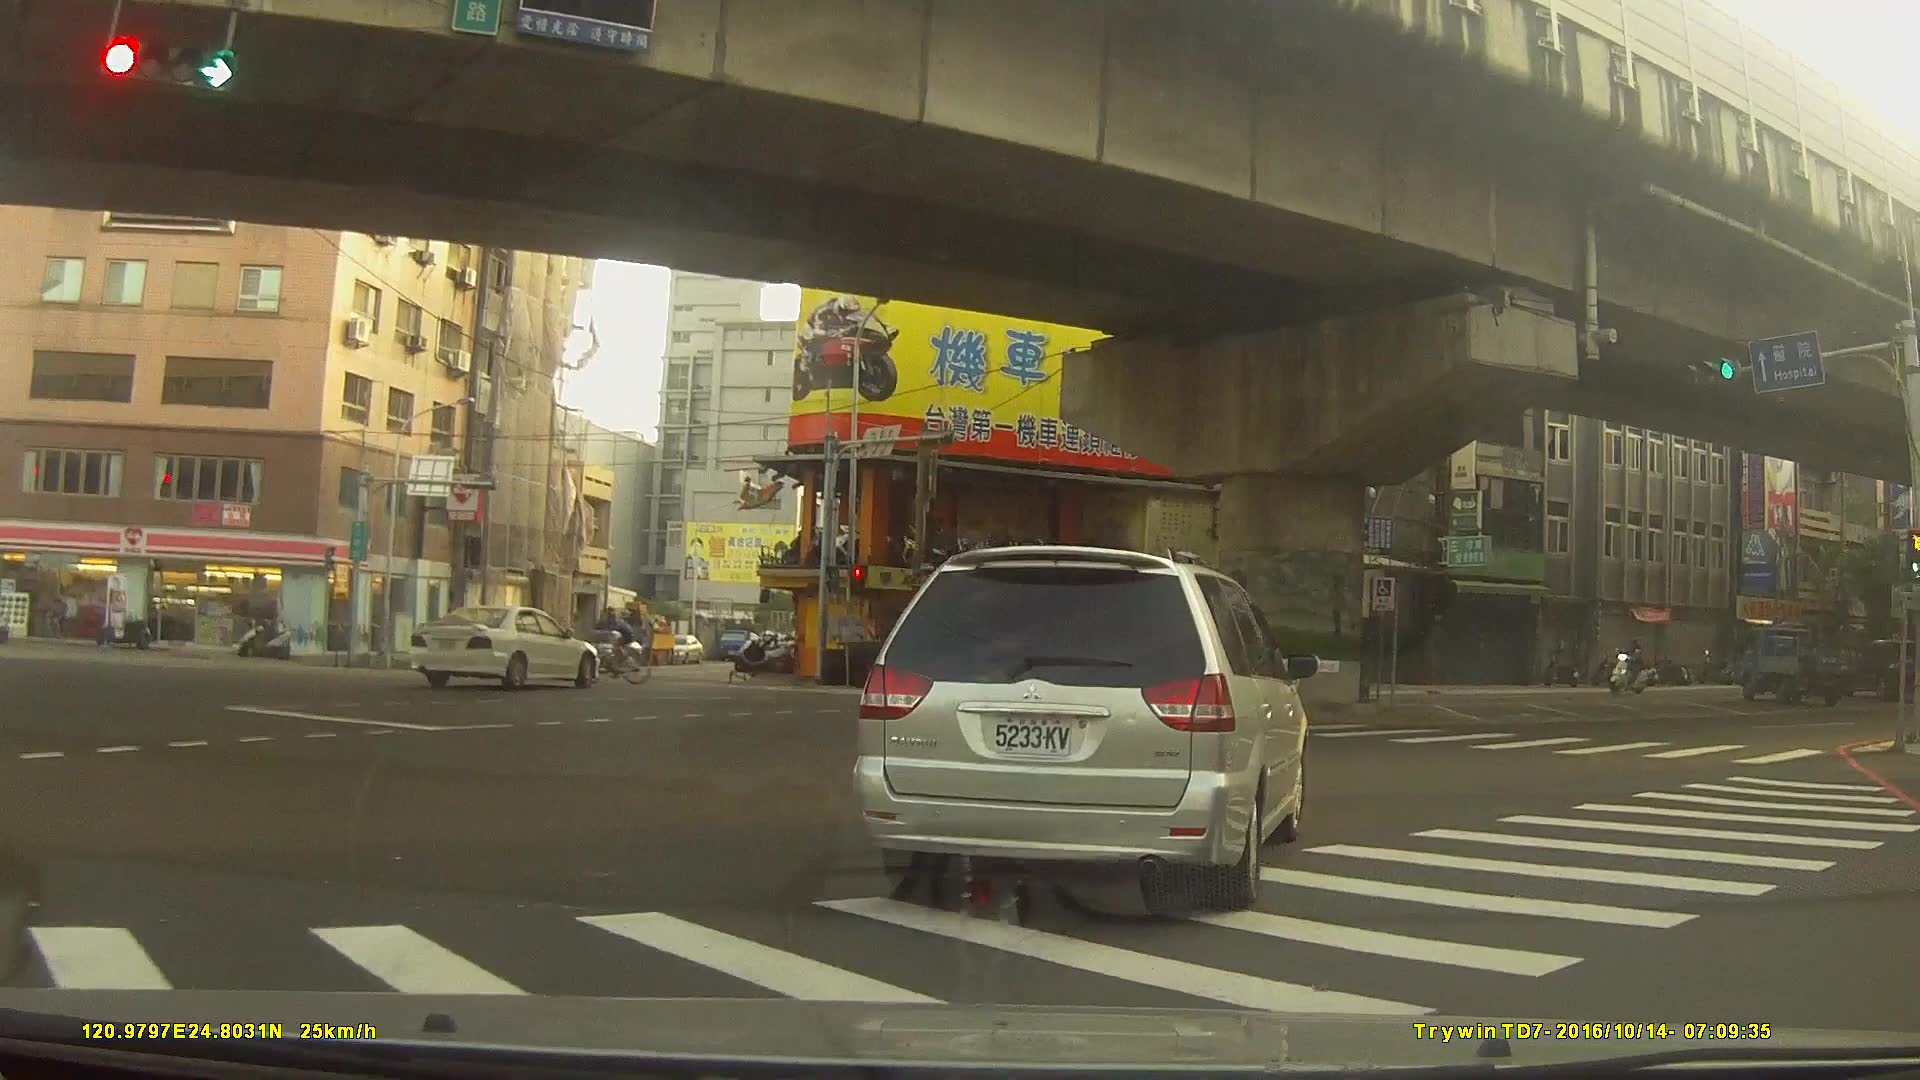rider: (580, 603, 652, 687), (1611, 639, 1653, 694)
vehicle: (853, 543, 1308, 913), (409, 604, 596, 690), (1735, 622, 1858, 705), (783, 636, 857, 678), (665, 633, 705, 664)
